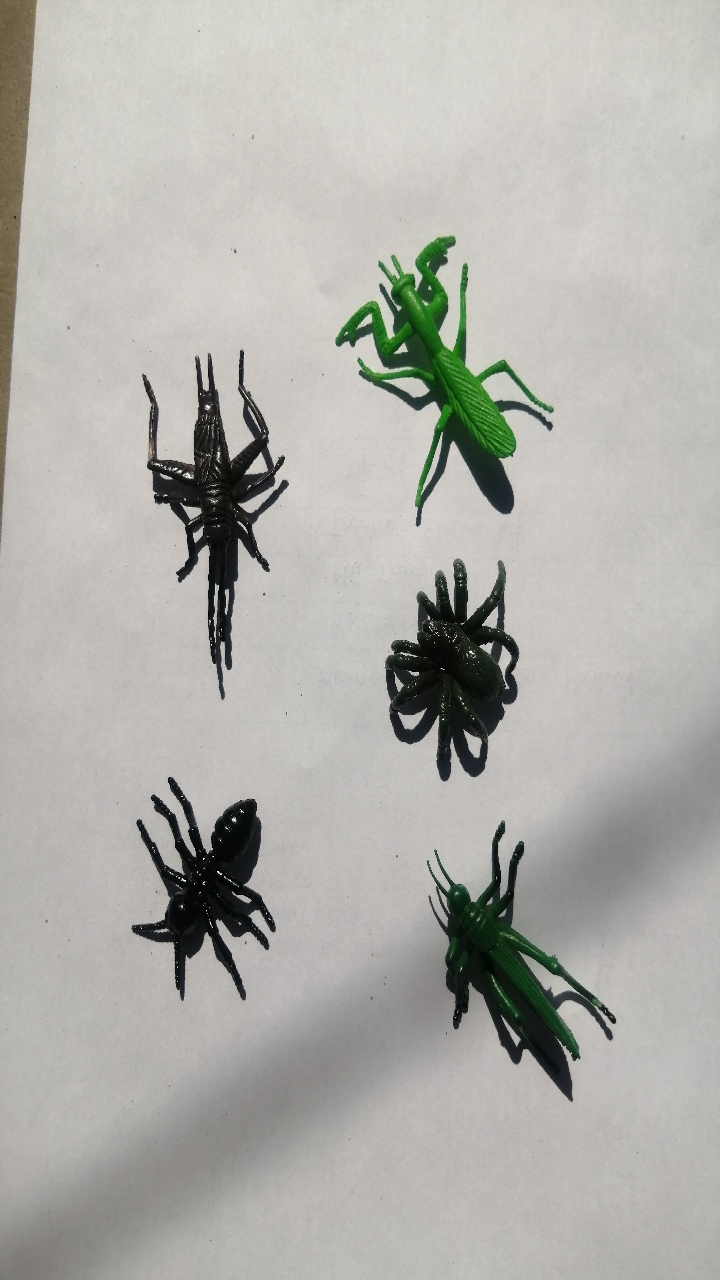intruso: (315, 195, 584, 532), (364, 808, 641, 1108), (92, 315, 298, 686), (109, 742, 315, 1014), (326, 529, 534, 791)
